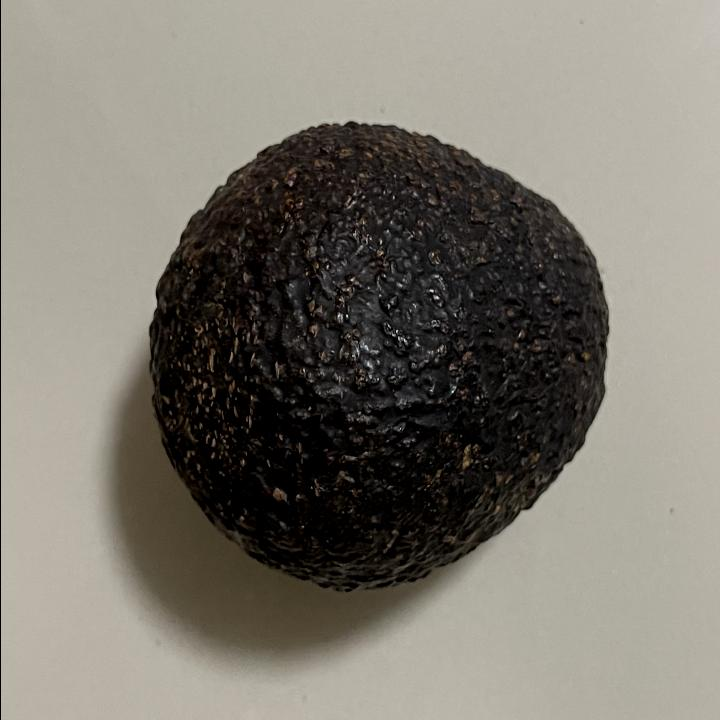Level3: (139, 112, 618, 604)
